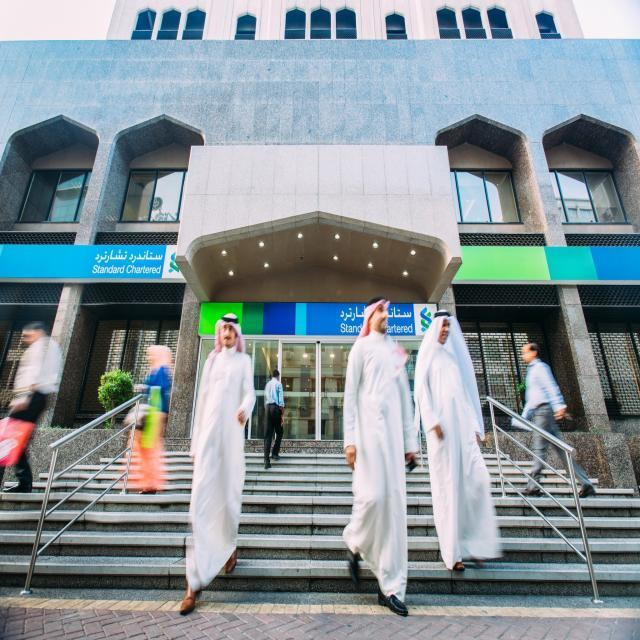Standard Chartered: (416, 297, 435, 341)
